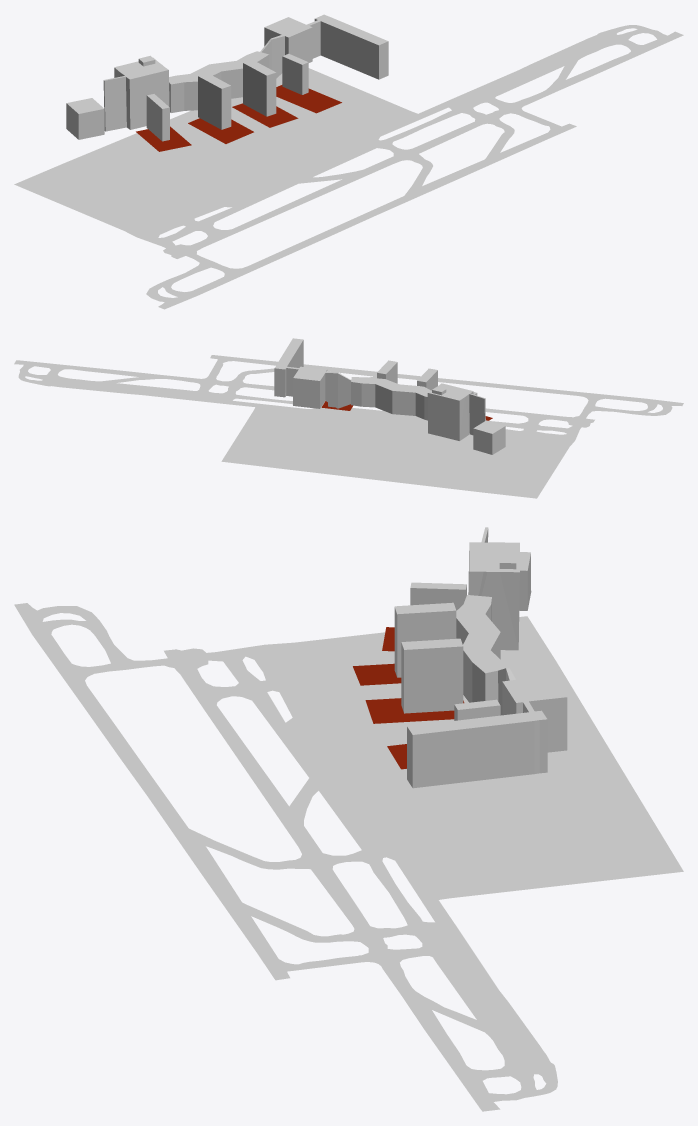
File: aeroporto6.dae
The picture shows the model from 3 angles, top to bottom: view 1: azimuth 30°, elevation 25°; view 2: azimuth 150°, elevation 25°; view 3: azimuth 270°, elevation 25°; orthographic projection. The views are drawn at different scales.
Visible parts, largest first — view 1: Plane_001, Plane, Cube_002, Cube_001, Cube_003, Cube, Plane_005, Plane_003, Plane_004, Plane_002; view 2: Plane_001, Plane, Cube_002, Cube_001; view 3: Plane_001, Plane, Cube_002, Cube_001, Plane_004, Cube.
Boxes of the visible parts, <box> form: Plane_001: <box>14,25,683,309</box>; Plane: <box>66,14,388,139</box>; Cube_002: <box>243,60,276,116</box>; Cube_001: <box>198,73,231,129</box>; Cube_003: <box>282,53,308,94</box>; Cube: <box>146,94,169,141</box>; Plane_005: <box>276,85,341,113</box>; Plane_003: <box>188,118,253,143</box>; Plane_004: <box>232,103,298,127</box>; Plane_002: <box>136,126,191,151</box>; Plane_001: <box>14,355,683,498</box>; Plane: <box>274,338,505,454</box>; Cube_002: <box>377,360,397,383</box>; Cube_001: <box>417,368,437,390</box>; Plane_001: <box>14,603,683,1111</box>; Plane: <box>407,527,567,788</box>; Cube_002: <box>401,638,463,713</box>; Cube_001: <box>394,602,456,677</box>; Plane_004: <box>365,698,464,723</box>; Cube: <box>410,582,466,610</box>.
Bounding box in the file's own units: 7.29 × 4.06 × 1.02.
